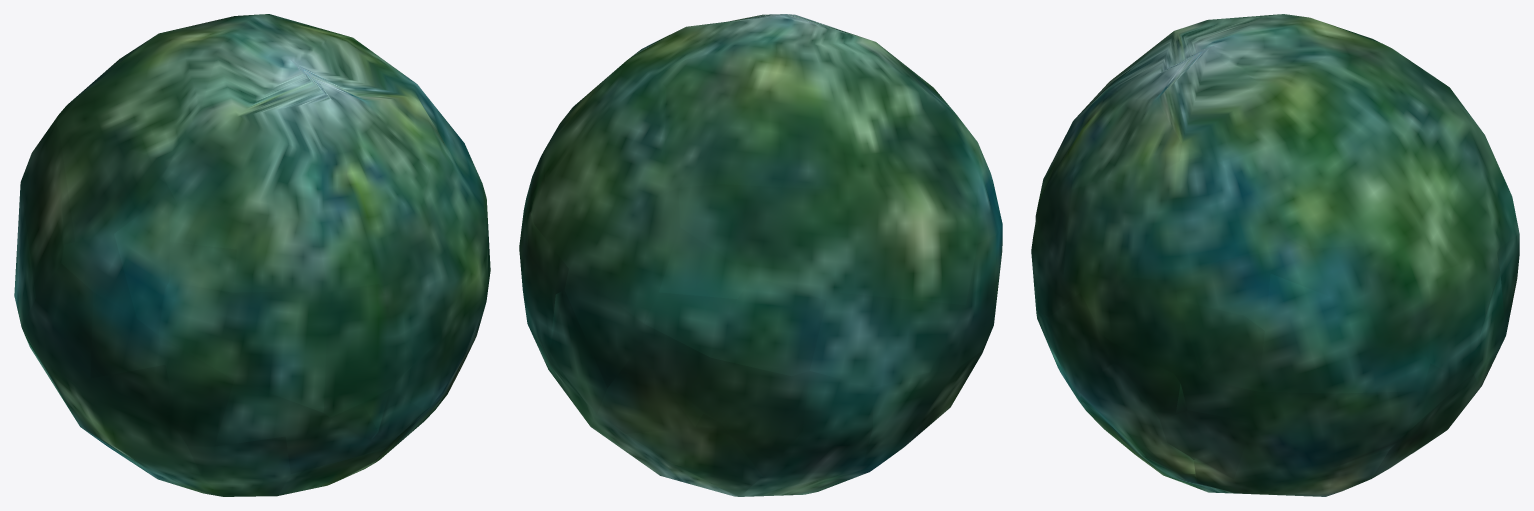
File: planet_8-far.glb
The picture shows the model from 3 angles, left to right: view 1: azimuth 30°, elevation 25°; view 2: azimuth 150°, elevation 25°; view 3: azimuth 270°, elevation 25°; orthographic projection.
Visible parts, largest first — view 1: Mesh_0.001; view 2: Mesh_0.001; view 3: Mesh_0.001.
Boxes of the visible parts, left/top/right/bottom form: Mesh_0.001: left=14, top=14, right=490, bottom=496; Mesh_0.001: left=519, top=14, right=1002, bottom=496; Mesh_0.001: left=1031, top=14, right=1519, bottom=496.
Bounding box in the file's own units: 1.89 × 1.9 × 1.89.
Materials: 1 (1 with a texture image).
